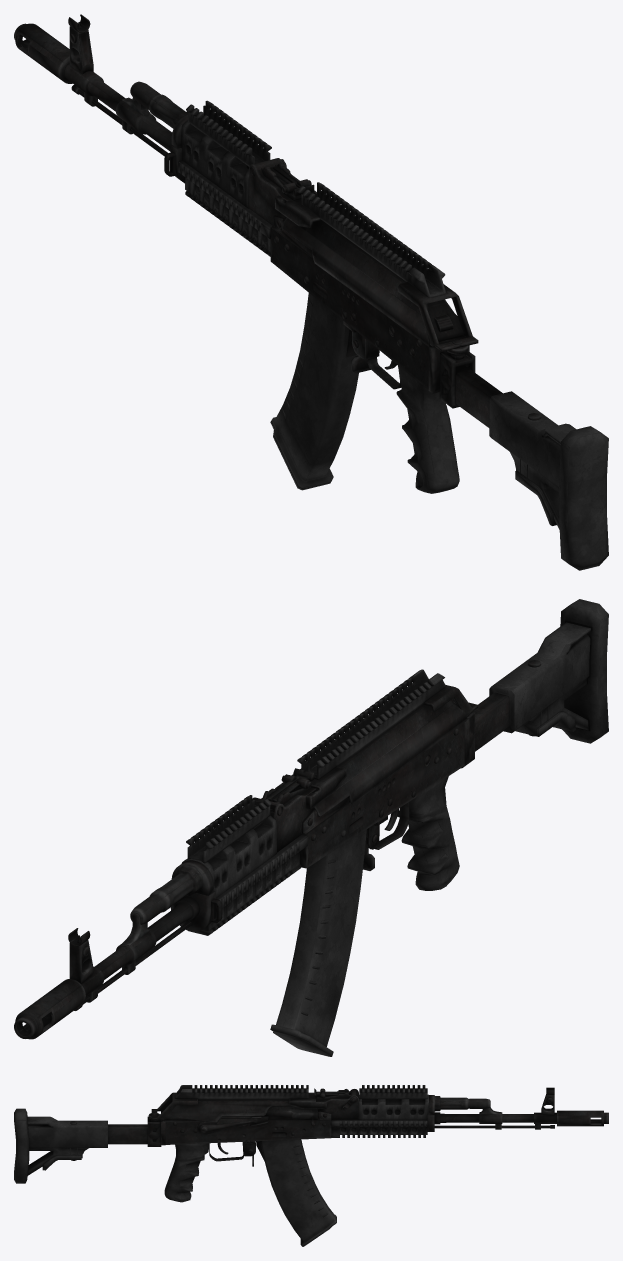
3 views of the same model, one above another, from view 1: azimuth 30°, elevation 25°; view 2: azimuth 150°, elevation 25°; view 3: azimuth 270°, elevation 25° (orthographic). The views are drawn at different scales.
Visible parts, largest first — view 1: WZ96 Beryl; view 2: WZ96 Beryl; view 3: WZ96 Beryl.
Part boxes in pixels (left/top/right/bottom): WZ96 Beryl: left=14, top=14, right=608, bottom=570; WZ96 Beryl: left=14, top=599, right=608, bottom=1056; WZ96 Beryl: left=14, top=1085, right=608, bottom=1246.
Size of the model in its own units: 0.069 by 0.2722 by 0.94.
Materials: 1 (1 with a texture image).
